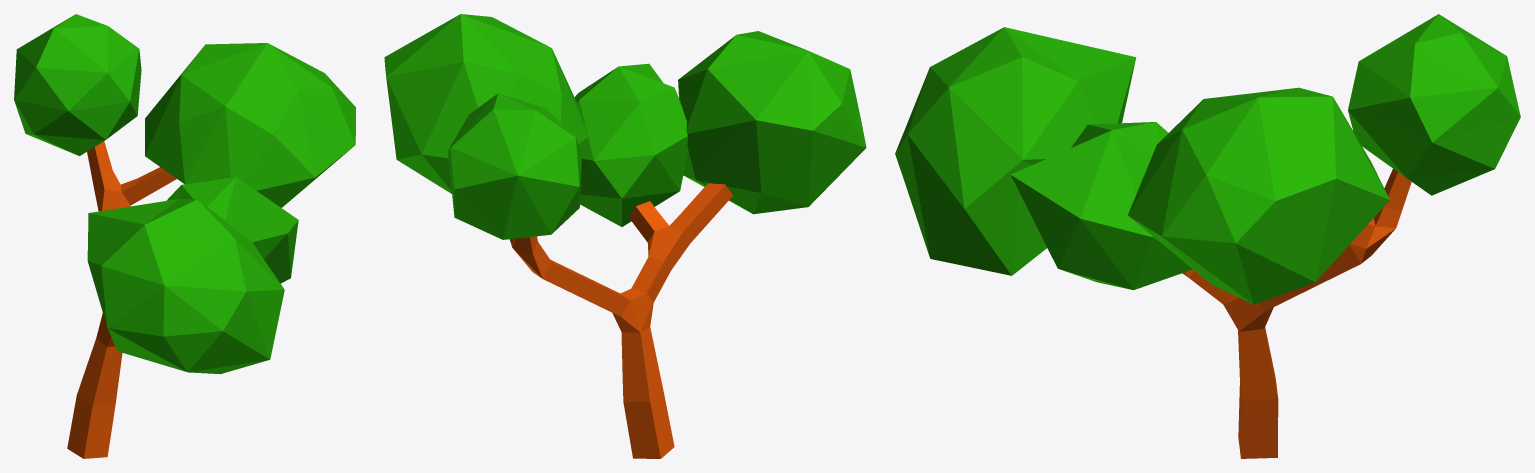
File: DobreDrzewov2m1.fbx
3 renders of one model, left to right at view 1: azimuth 30°, elevation 25°; view 2: azimuth 150°, elevation 25°; view 3: azimuth 270°, elevation 25°, orthographic. The views are drawn at different scales.
Visible parts, largest first — view 1: Kula ico, Kula ico.005, Kula ico.004, Kostka, Kula ico.001; view 2: Kula ico, Kula ico.005, Kula ico.004, Kula ico.001, Kostka; view 3: Kula ico.005, Kula ico, Kula ico.004, Kula ico.001, Kostka.
Part boxes in pixels (x1=…): Kula ico: x1=87, y1=199, x2=284, y2=374; Kula ico.005: x1=145, y1=43, x2=355, y2=207; Kula ico.004: x1=14, y1=14, x2=141, y2=155; Kostka: x1=67, y1=141, x2=176, y2=458; Kula ico.001: x1=166, y1=177, x2=298, y2=283; Kula ico: x1=678, y1=31, x2=866, y2=214; Kula ico.005: x1=384, y1=14, x2=588, y2=193; Kula ico.004: x1=448, y1=93, x2=582, y2=239; Kula ico.001: x1=574, y1=63, x2=688, y2=226; Kostka: x1=509, y1=183, x2=733, y2=458; Kula ico.005: x1=1127, y1=87, x2=1389, y2=304; Kula ico: x1=895, y1=27, x2=1136, y2=275; Kula ico.004: x1=1348, y1=14, x2=1520, y2=195; Kula ico.001: x1=1011, y1=122, x2=1192, y2=290; Kostka: x1=1182, y1=168, x2=1411, y2=458.
Bounding box in the file's own units: 1188 × 1199 × 1465.
